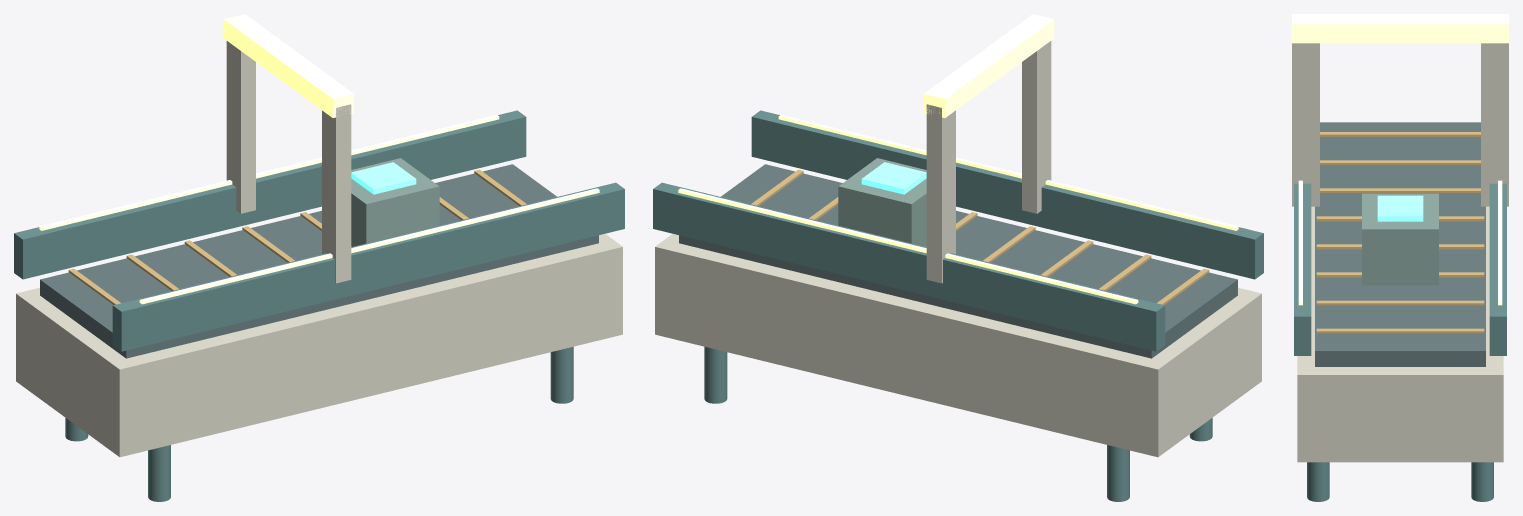
Rendered from conveyor-sorter.glb.
The picture shows the model from 3 angles, left to right: view 1: azimuth 30°, elevation 25°; view 2: azimuth 150°, elevation 25°; view 3: azimuth 270°, elevation 25°; orthographic projection.
Parts seen in each view (by area): view 1: conveyor.base, conveyor.guard.1, conveyor.belt, conveyor.guard.-1, conveyor.cargo.mover, conveyor.scanner.right, conveyor.scanner.top, conveyor.scanner.left, conveyor.light.1, conveyor.light.-1, conveyor.cargo.glow, conveyor.pillar.1.32.0.47 (+1 smaller); view 2: conveyor.base, conveyor.guard.-1, conveyor.belt, conveyor.guard.1, conveyor.cargo.mover, conveyor.scanner.left, conveyor.scanner.top, conveyor.scanner.right, conveyor.light.-1, conveyor.light.1, conveyor.cargo.glow, conveyor.pillar.1.32.-0.47 (+1 smaller); view 3: conveyor.belt, conveyor.base, conveyor.scanner.top, conveyor.cargo.mover, conveyor.scanner.left, conveyor.scanner.right, conveyor.guard.-1, conveyor.guard.1, conveyor.cargo.glow, conveyor.belt.stripe.6, conveyor.belt.stripe.7, conveyor.pillar.1.32.-0.47 (+9 smaller).
Boxes of the visible parts, box(x1,y1,x2,y2) form: conveyor.base: box(16, 234, 622, 457); conveyor.guard.1: box(112, 182, 624, 351); conveyor.belt: box(40, 164, 598, 358); conveyor.guard.-1: box(14, 110, 526, 279); conveyor.cargo.mover: box(351, 158, 439, 246); conveyor.scanner.right: box(322, 104, 351, 283); conveyor.scanner.top: box(223, 14, 354, 117); conveyor.scanner.left: box(226, 41, 255, 213); conveyor.light.1: box(139, 188, 599, 304); conveyor.light.-1: box(39, 115, 499, 230); conveyor.cargo.glow: box(351, 162, 416, 194); conveyor.pillar.1.32.0.47: box(550, 346, 573, 403); conveyor.base: box(655, 234, 1261, 457); conveyor.guard.-1: box(653, 182, 1165, 351); conveyor.belt: box(679, 164, 1237, 358); conveyor.guard.1: box(751, 110, 1263, 279); conveyor.cargo.mover: box(838, 158, 926, 246); conveyor.scanner.left: box(926, 104, 955, 283); conveyor.scanner.top: box(923, 14, 1054, 117); conveyor.scanner.right: box(1022, 41, 1051, 213); conveyor.light.-1: box(678, 188, 1138, 304); conveyor.light.1: box(778, 115, 1238, 230); conveyor.cargo.glow: box(861, 162, 926, 194); conveyor.pillar.1.32.-0.47: box(704, 346, 727, 403); conveyor.belt: box(1315, 122, 1485, 366); conveyor.base: box(1297, 206, 1503, 462); conveyor.scanner.top: box(1292, 14, 1508, 43); conveyor.cargo.mover: box(1362, 193, 1438, 285); conveyor.scanner.left: box(1481, 43, 1508, 206); conveyor.scanner.right: box(1292, 43, 1319, 206); conveyor.guard.-1: box(1489, 183, 1506, 355); conveyor.guard.1: box(1294, 183, 1311, 355); conveyor.cargo.glow: box(1377, 195, 1423, 221); conveyor.belt.stripe.6: box(1316, 300, 1484, 305); conveyor.belt.stripe.7: box(1316, 328, 1484, 333); conveyor.pillar.1.32.-0.47: box(1471, 462, 1493, 501).
Size of the model in its own units: 3.3 by 2.31 by 1.24.
